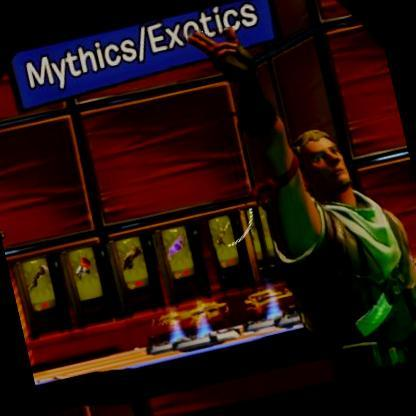person: (241, 103, 416, 376)
